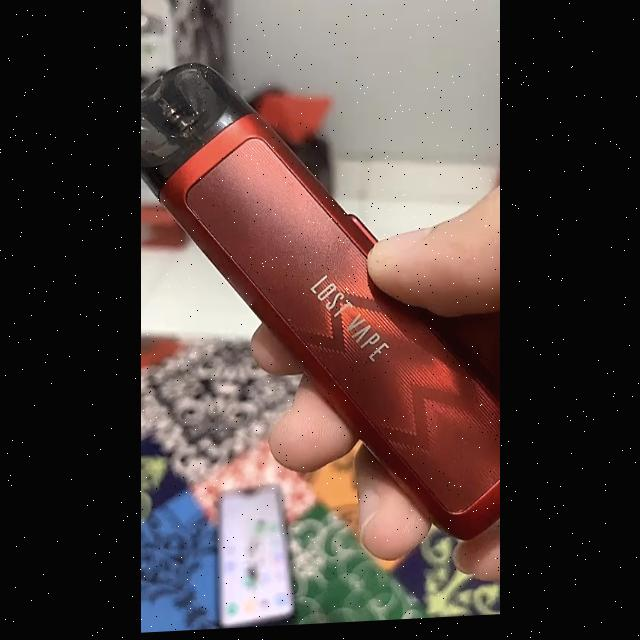vape: (140, 66, 497, 547)
